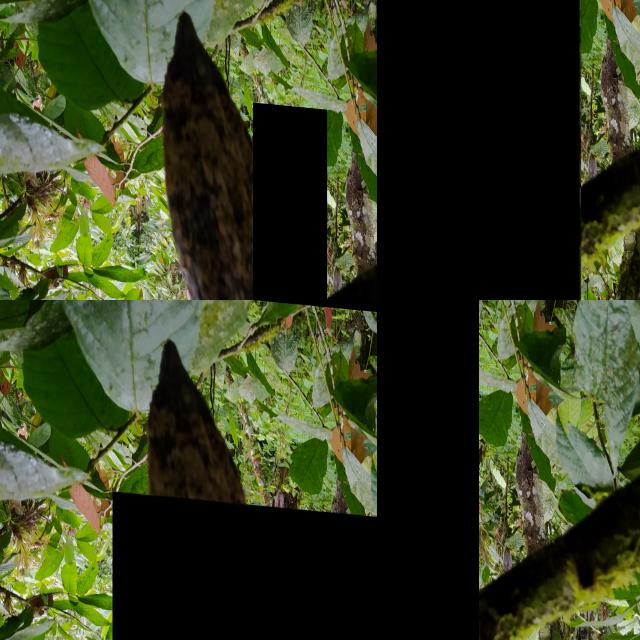Fitoftora: (377, 300, 479, 640), (253, 96, 327, 300)
Monilia: (79, 486, 194, 558)
Sana: (377, 0, 581, 300), (112, 488, 377, 640), (91, 390, 230, 505)
